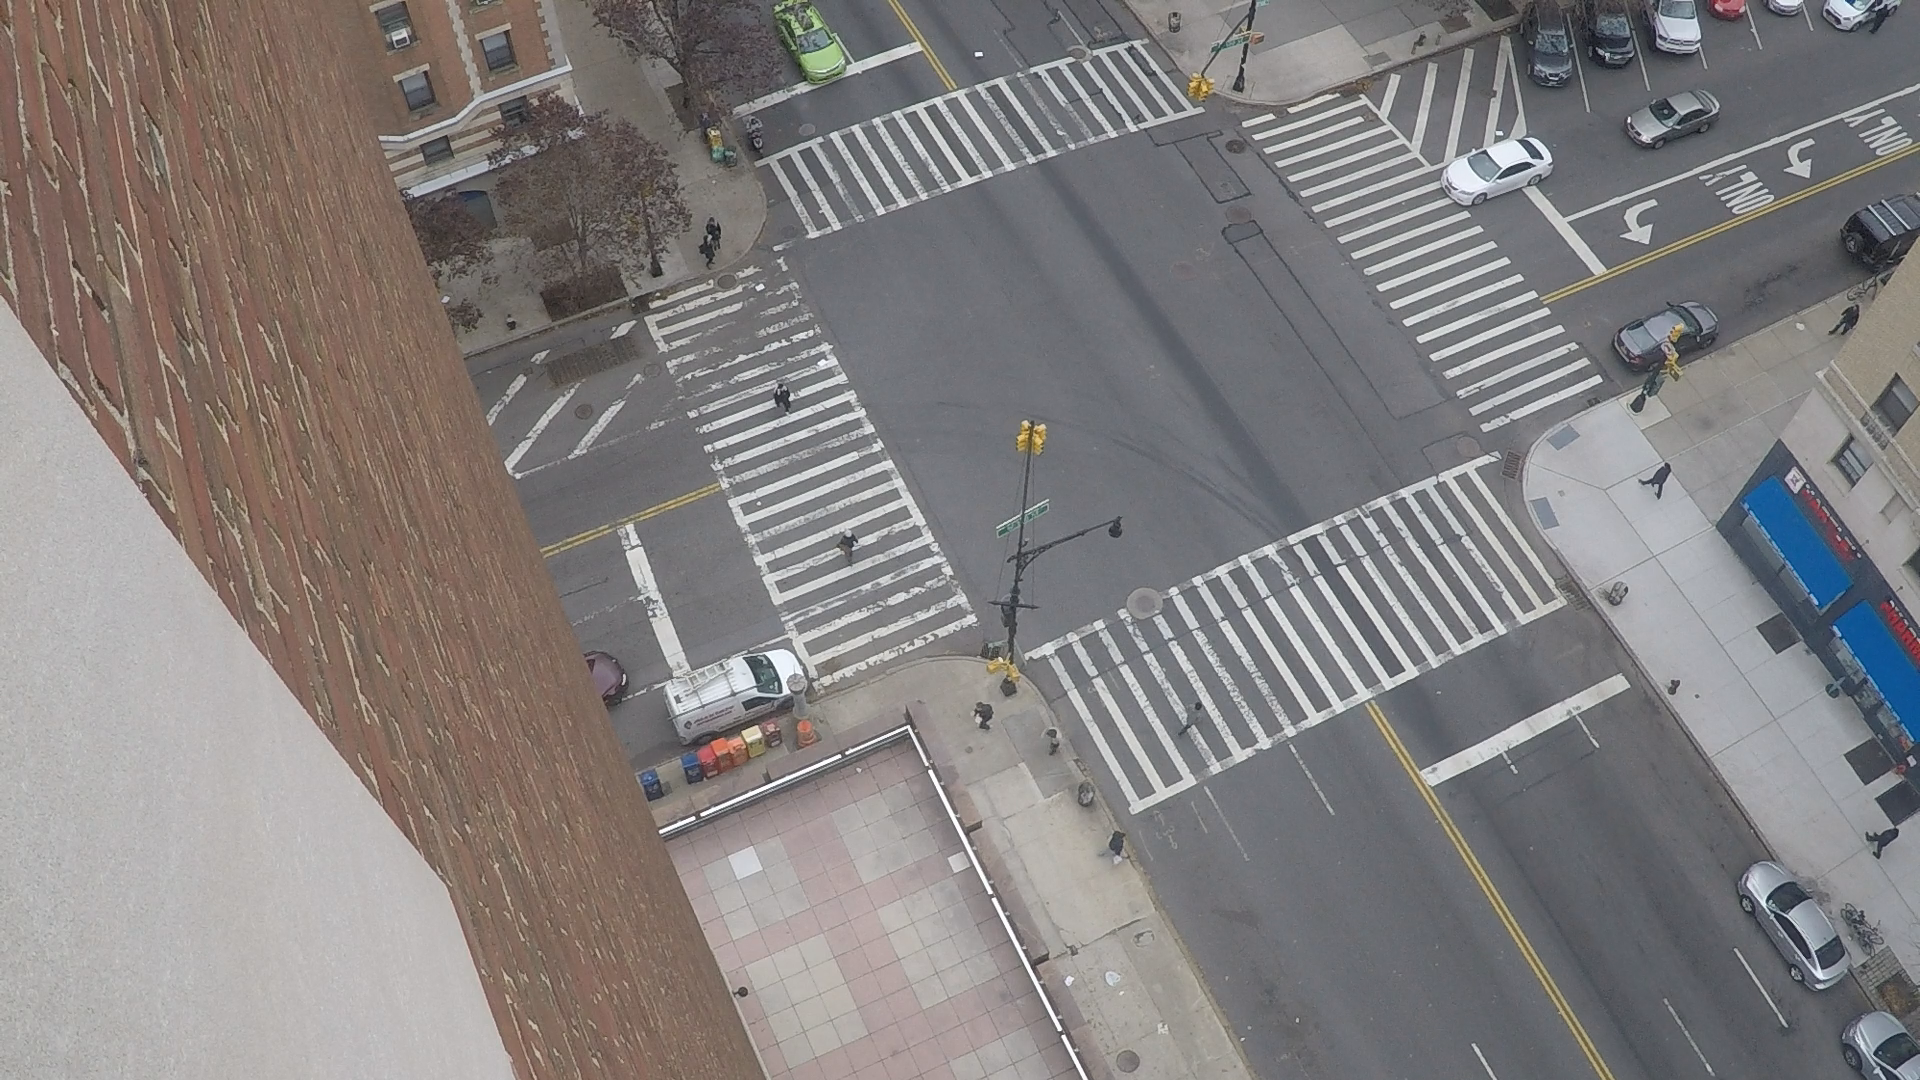Car: (814, 0, 845, 58), (795, 654, 799, 662), (1692, 300, 1701, 303), (1763, 0, 1764, 3)
Pedestrian: (757, 119, 762, 123), (1115, 831, 1121, 832), (1665, 462, 1669, 463), (980, 701, 983, 703), (848, 530, 851, 531)
